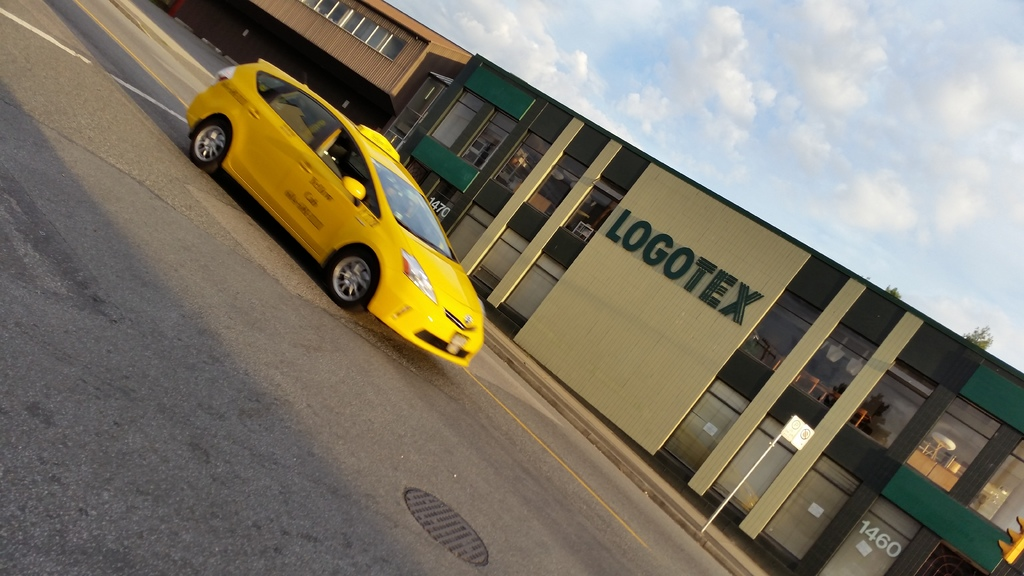Car: (183, 53, 487, 368)
